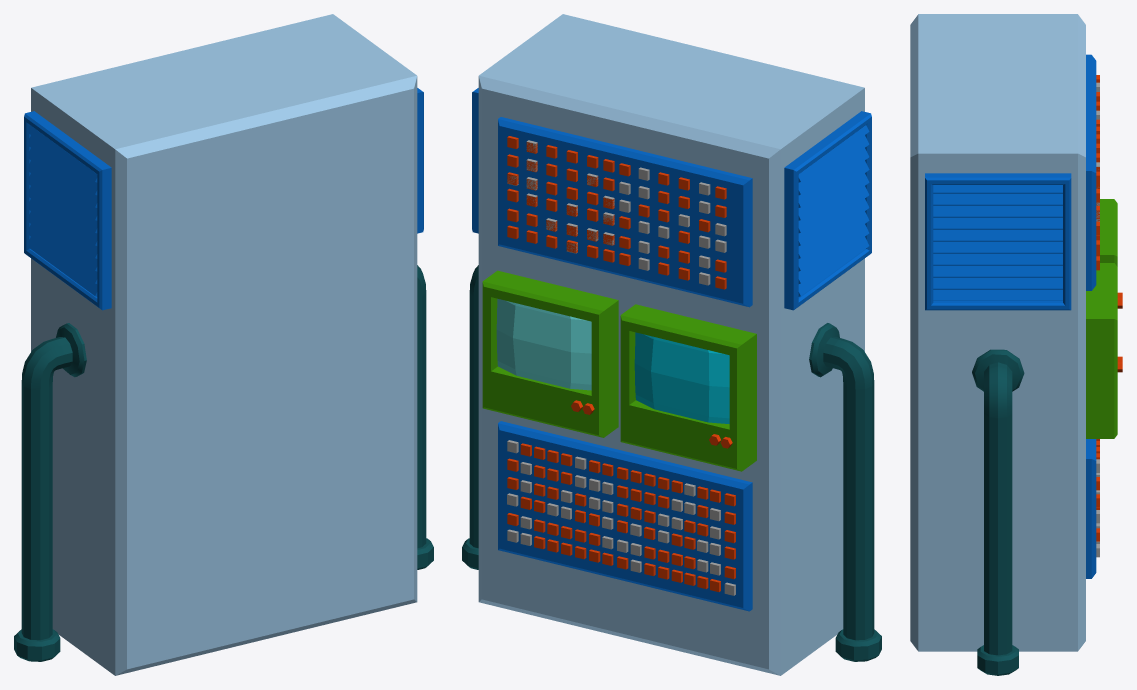
The model's file is Console.fbx.
3 renders of one model, left to right at view 1: azimuth 30°, elevation 25°; view 2: azimuth 150°, elevation 25°; view 3: azimuth 270°, elevation 25°, orthographic. The views are drawn at different scales.
Visible parts, largest first — view 1: Console; view 2: Console; view 3: Console.
Part boxes in pixels (x1,y1,x2,y2): Console: (14,14,433,675); Console: (462,14,881,675); Console: (910,14,1122,675).
Size of the model in its own units: 3.41 by 4.15 by 1.6.
